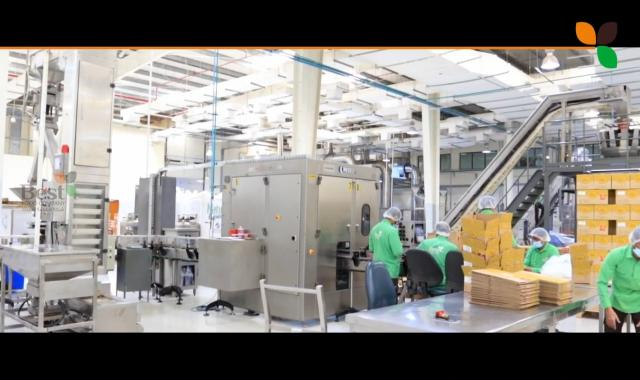hairnet: (530, 224, 548, 248), (627, 226, 640, 254), (433, 219, 452, 238), (530, 228, 551, 245), (629, 228, 640, 258), (434, 220, 452, 238), (384, 206, 401, 224), (385, 206, 401, 222), (477, 195, 495, 209)
